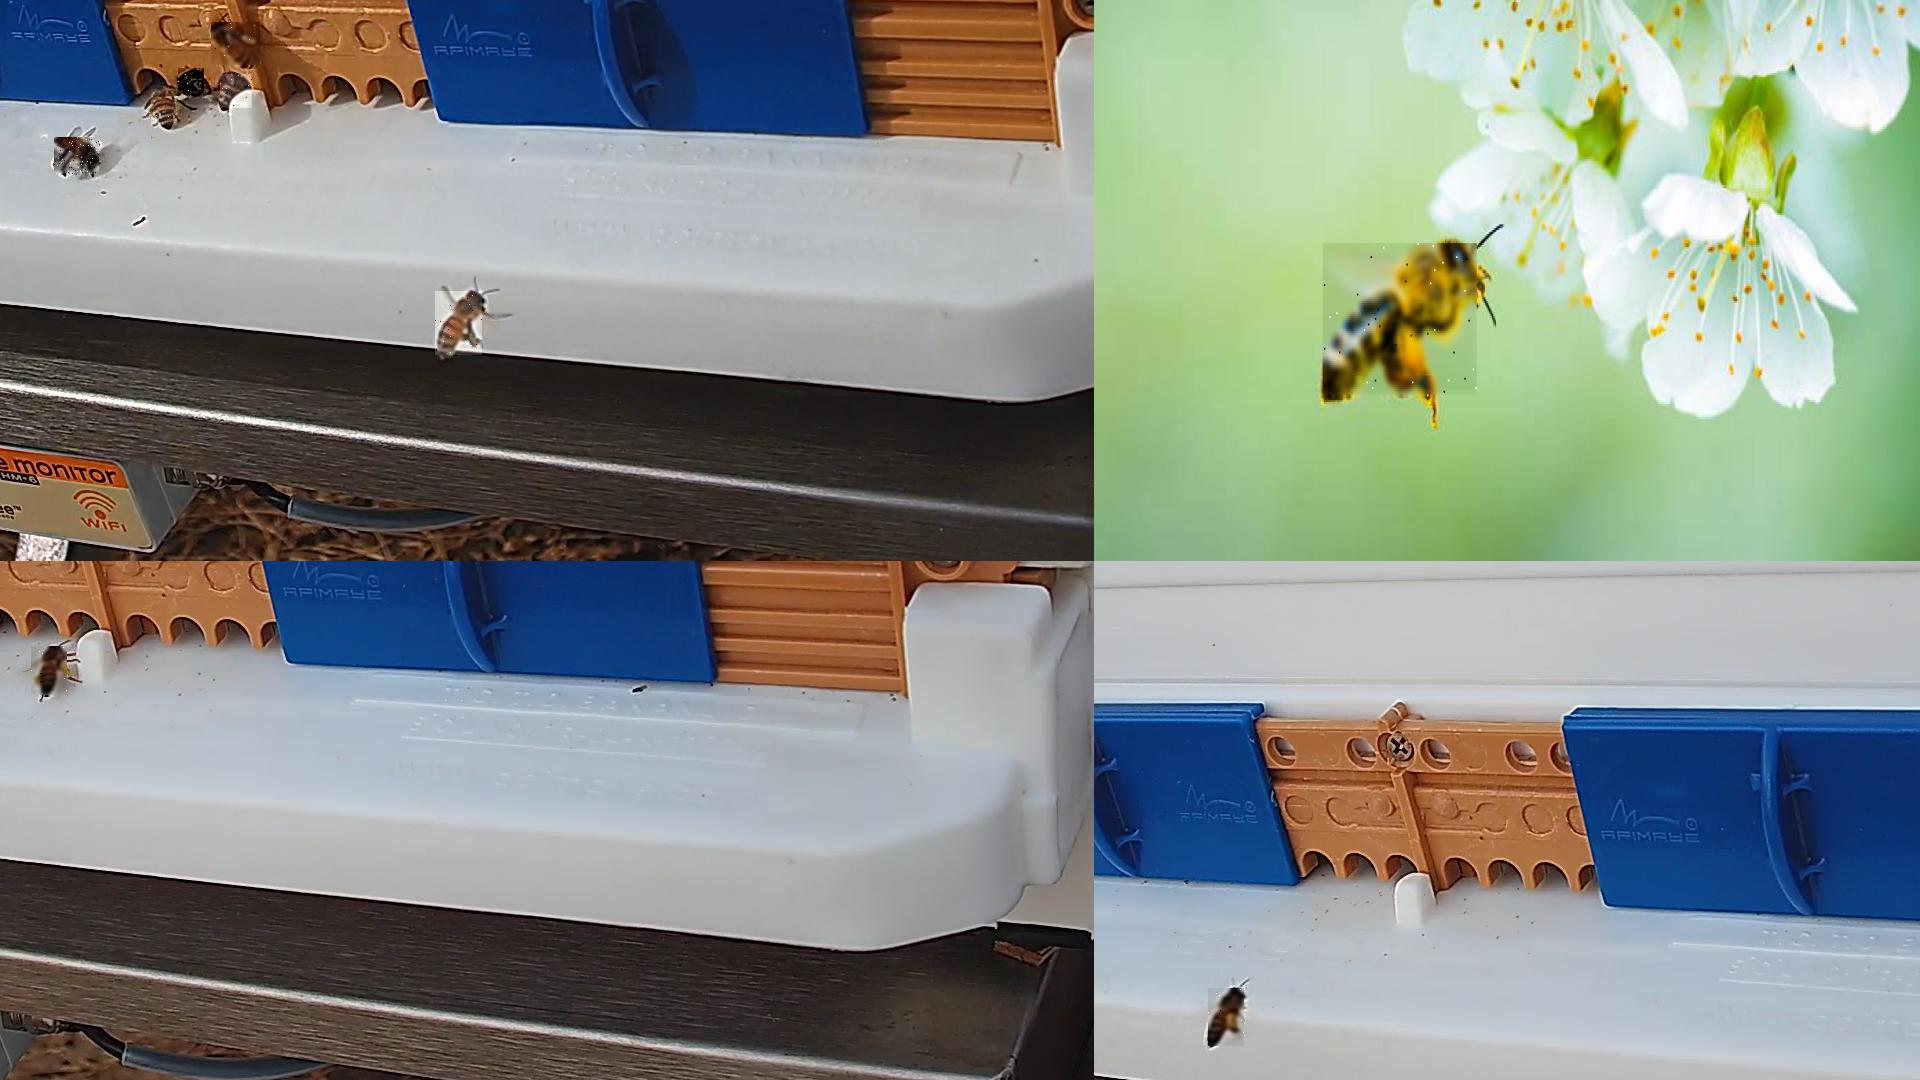bee: (54, 137, 100, 175), (220, 74, 253, 109), (152, 90, 178, 127), (178, 69, 204, 92)
pollenbee: (1323, 245, 1478, 400), (435, 291, 484, 356), (211, 22, 261, 67), (1208, 988, 1245, 1047), (32, 646, 69, 698)
